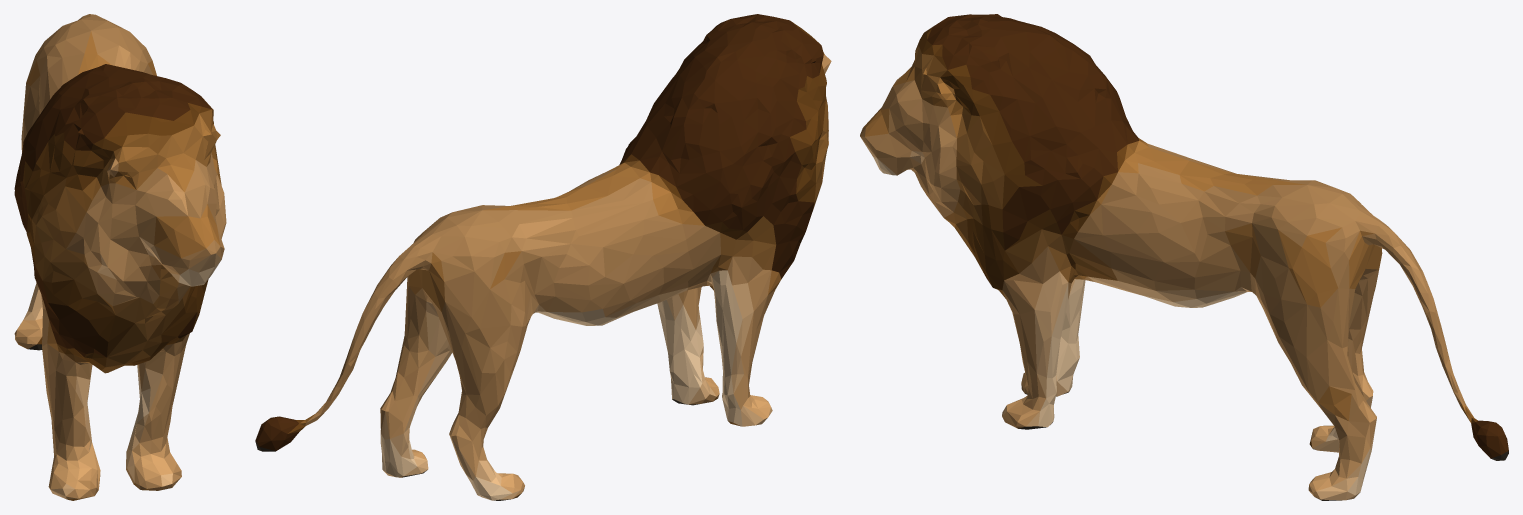
Rendered from wild-lion.glb.
3 views of the same model, side by side, from view 1: azimuth 30°, elevation 25°; view 2: azimuth 150°, elevation 25°; view 3: azimuth 270°, elevation 25° (orthographic). The views are drawn at different scales.
Parts seen in each view (by area): view 1: low-poly-lion; view 2: low-poly-lion; view 3: low-poly-lion.
Part boxes in pixels (bbox=[...]): low-poly-lion: bbox=[14, 14, 226, 500]; low-poly-lion: bbox=[255, 14, 831, 500]; low-poly-lion: bbox=[860, 14, 1508, 500].
Size of the model in its own units: 1.64 by 1.76 by 2.71.
1 material, 1 textured.
